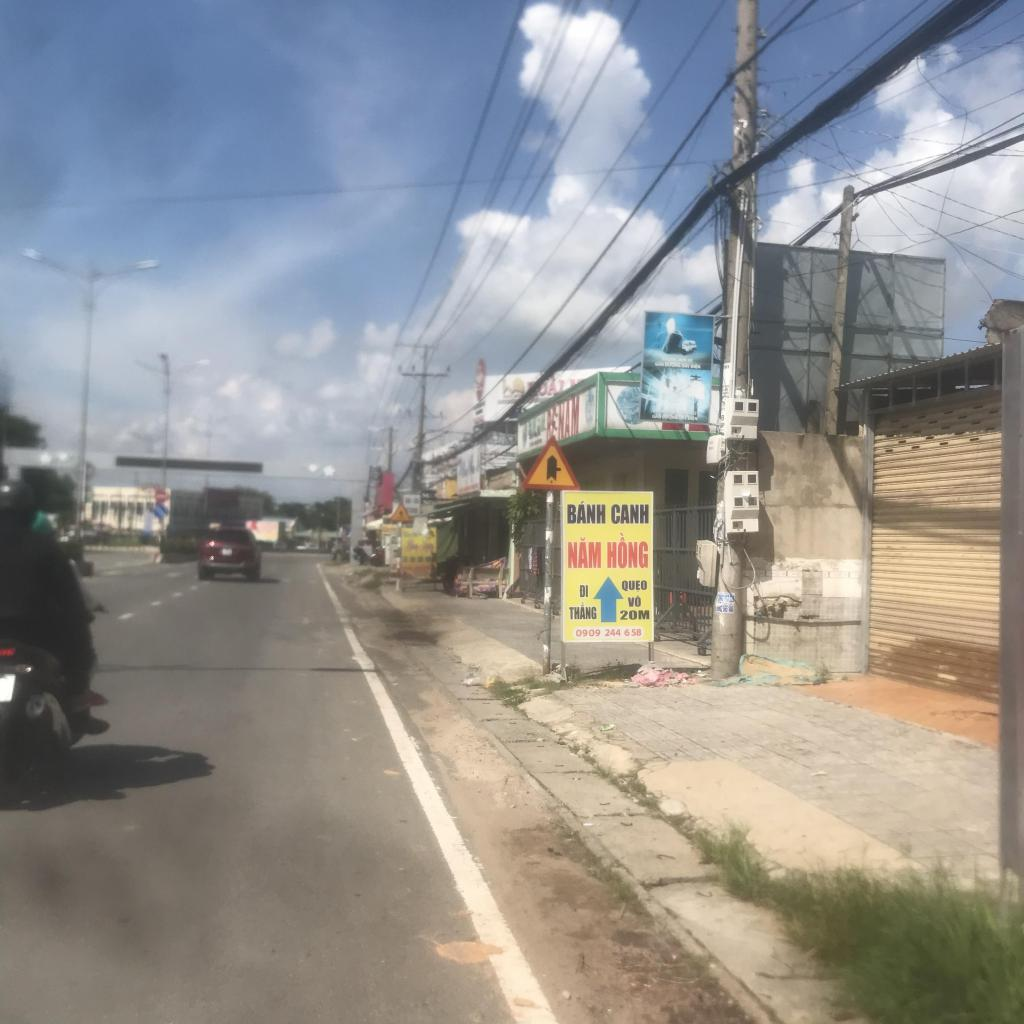cam_xe_di_nguoc_chieu: (155, 489, 166, 501)
chu_y_nguoi_di_bo_cat_ngang: (388, 501, 412, 523)
giao_nhau_voi_duong_khong_uu_tien: (521, 433, 583, 488)
huong_phai_di_vuot_chuong_ngai_vat_phai: (154, 503, 167, 520)
